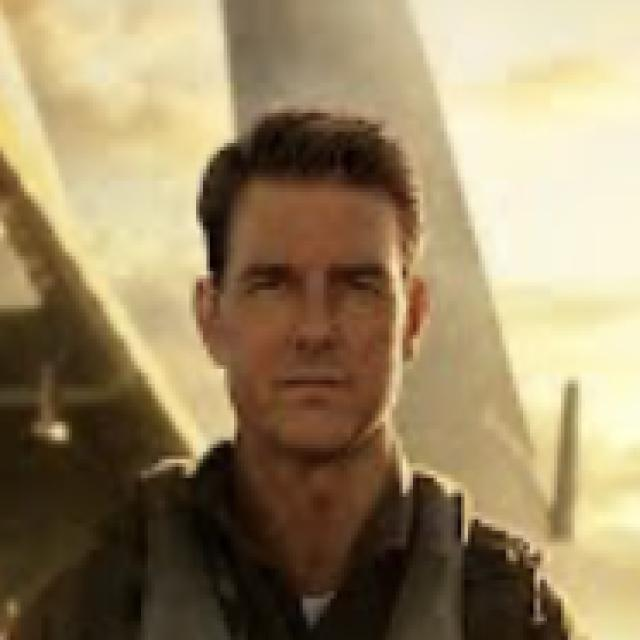natural: (153, 90, 477, 489)
